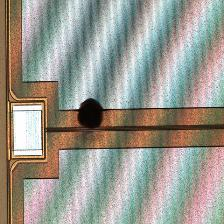PARTICLE: (73, 97, 109, 133)
